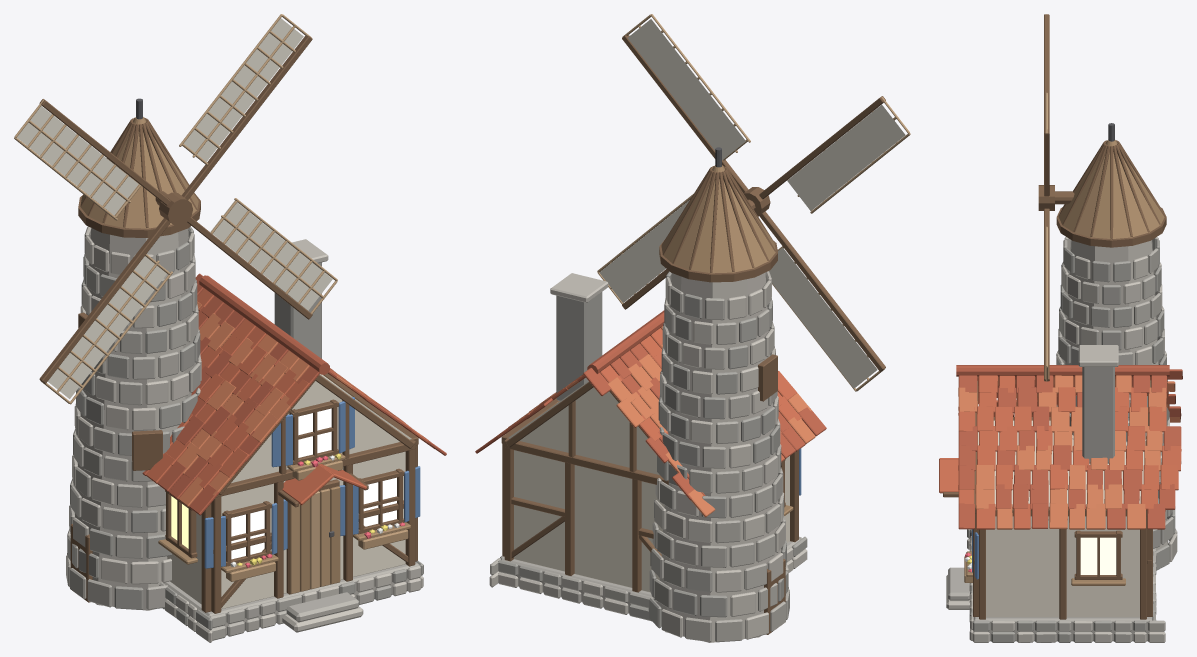
Rendered from house.glb.
3 views of the same model, side by side, from view 1: azimuth 30°, elevation 25°; view 2: azimuth 150°, elevation 25°; view 3: azimuth 270°, elevation 25° (orthographic). The views are drawn at different scales.
Visible parts, largest first — view 1: house, sails; view 2: house, sails; view 3: house, sails.
Boxes of the visible parts, x1,y1,x2,y2 form: house: (66,98,446,642); sails: (14,14,337,404); house: (475,147,826,642); sails: (597,14,910,391); house: (939,123,1182,642); sails: (1038,14,1054,381).
Size of the model in its own units: 6.08 by 8.61 by 3.76.
